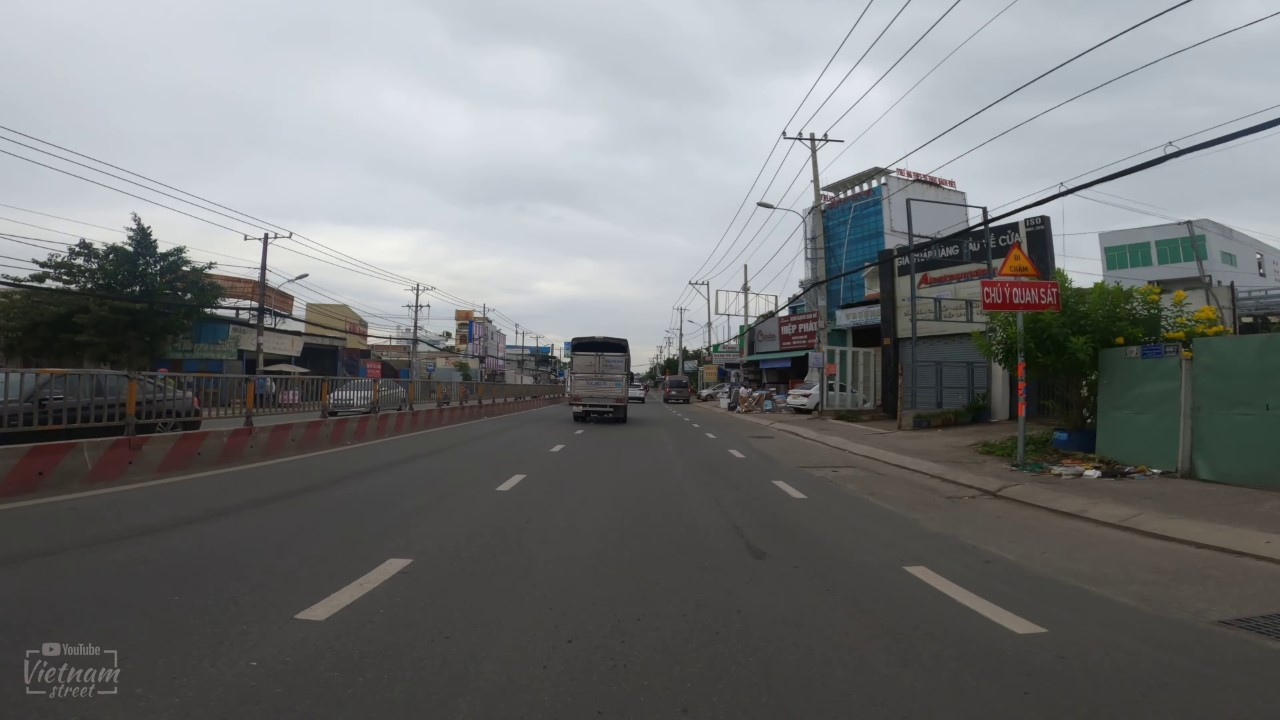di_cham: (996, 238, 1041, 279)
